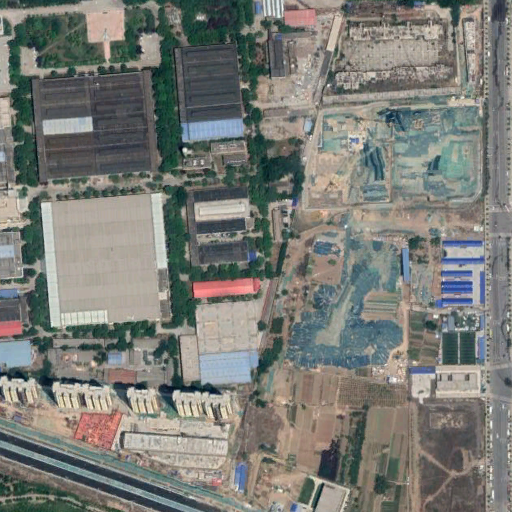cw: (282, 214, 409, 381), (304, 98, 489, 209)
